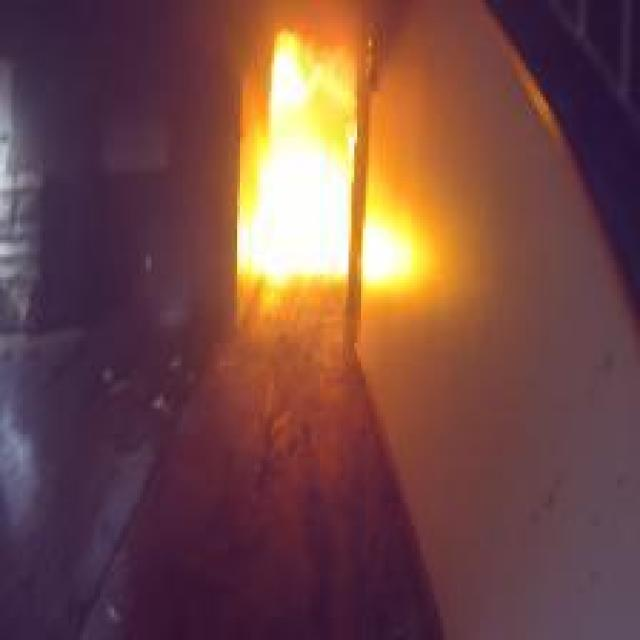fire: (238, 39, 350, 290)
other: (359, 204, 421, 295)
